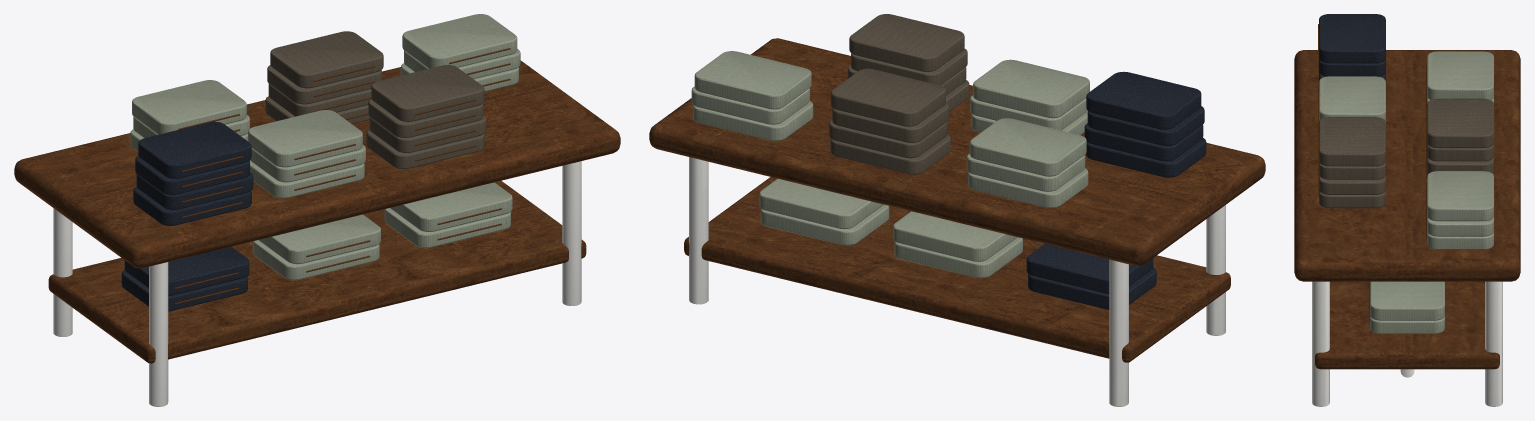
File: willow_folded_clothing_table.glb
The picture shows the model from 3 angles, left to right: view 1: azimuth 30°, elevation 25°; view 2: azimuth 150°, elevation 25°; view 3: azimuth 270°, elevation 25°; orthographic projection. The views are drawn at different scales.
Parts seen in each view (by area): view 1: willow_folded_clothing_table_willow_worn_oak_pbr, willow_folded_clothing_table_willow_dark_oak_pbr, willow_folded_clothing_table_willow_dark_denim_pbr, willow_folded_clothing_table_willow_rust_corduroy_pbr, willow_folded_clothing_table_willow_forest_corduroy_pbr, willow_folded_clothing_table_willow_tan_fleece_pbr, willow_folded_clothing_table_willow_cream_fleece_pbr, willow_folded_clothing_table_willow_olive_corduroy_pbr, willow_folded_clothing_table_willow_blackened_steel_pbr, willow_folded_clothing_table_willow_brown_leather_pbr; view 2: willow_folded_clothing_table_willow_worn_oak_pbr, willow_folded_clothing_table_willow_dark_oak_pbr, willow_folded_clothing_table_willow_dark_denim_pbr, willow_folded_clothing_table_willow_rust_corduroy_pbr, willow_folded_clothing_table_willow_forest_corduroy_pbr, willow_folded_clothing_table_willow_cream_fleece_pbr, willow_folded_clothing_table_willow_blackened_steel_pbr, willow_folded_clothing_table_willow_tan_fleece_pbr, willow_folded_clothing_table_willow_olive_corduroy_pbr; view 3: willow_folded_clothing_table_willow_worn_oak_pbr, willow_folded_clothing_table_willow_dark_oak_pbr, willow_folded_clothing_table_willow_rust_corduroy_pbr, willow_folded_clothing_table_willow_tan_fleece_pbr, willow_folded_clothing_table_willow_cream_fleece_pbr, willow_folded_clothing_table_willow_dark_denim_pbr, willow_folded_clothing_table_willow_blackened_steel_pbr, willow_folded_clothing_table_willow_forest_corduroy_pbr, willow_folded_clothing_table_willow_olive_corduroy_pbr, willow_folded_clothing_table_willow_brown_leather_pbr.
Part boxes in pixels (x1,y1,x2,y2): willow_folded_clothing_table_willow_worn_oak_pbr: [14, 60, 620, 268]; willow_folded_clothing_table_willow_dark_oak_pbr: [48, 180, 586, 363]; willow_folded_clothing_table_willow_dark_denim_pbr: [121, 121, 253, 311]; willow_folded_clothing_table_willow_rust_corduroy_pbr: [384, 14, 520, 248]; willow_folded_clothing_table_willow_forest_corduroy_pbr: [130, 80, 380, 280]; willow_folded_clothing_table_willow_tan_fleece_pbr: [366, 65, 486, 168]; willow_folded_clothing_table_willow_cream_fleece_pbr: [265, 31, 383, 123]; willow_folded_clothing_table_willow_olive_corduroy_pbr: [248, 110, 365, 198]; willow_folded_clothing_table_willow_blackened_steel_pbr: [53, 161, 581, 406]; willow_folded_clothing_table_willow_brown_leather_pbr: [174, 48, 510, 304]; willow_folded_clothing_table_willow_worn_oak_pbr: [649, 38, 1265, 265]; willow_folded_clothing_table_willow_dark_oak_pbr: [684, 177, 1230, 362]; willow_folded_clothing_table_willow_dark_denim_pbr: [1026, 71, 1206, 309]; willow_folded_clothing_table_willow_rust_corduroy_pbr: [691, 51, 889, 245]; willow_folded_clothing_table_willow_forest_corduroy_pbr: [893, 118, 1088, 278]; willow_folded_clothing_table_willow_cream_fleece_pbr: [829, 68, 950, 174]; willow_folded_clothing_table_willow_blackened_steel_pbr: [689, 157, 1225, 406]; willow_folded_clothing_table_willow_tan_fleece_pbr: [847, 14, 969, 111]; willow_folded_clothing_table_willow_olive_corduroy_pbr: [970, 59, 1089, 135]; willow_folded_clothing_table_willow_worn_oak_pbr: [1294, 50, 1520, 281]; willow_folded_clothing_table_willow_dark_oak_pbr: [1315, 281, 1499, 369]; willow_folded_clothing_table_willow_rust_corduroy_pbr: [1370, 171, 1493, 333]; willow_folded_clothing_table_willow_tan_fleece_pbr: [1319, 117, 1385, 208]; willow_folded_clothing_table_willow_cream_fleece_pbr: [1427, 98, 1493, 176]; willow_folded_clothing_table_willow_dark_denim_pbr: [1319, 14, 1385, 81]; willow_folded_clothing_table_willow_blackened_steel_pbr: [1312, 281, 1502, 406]; willow_folded_clothing_table_willow_forest_corduroy_pbr: [1427, 51, 1493, 103]; willow_folded_clothing_table_willow_olive_corduroy_pbr: [1319, 76, 1385, 121]; willow_folded_clothing_table_willow_brown_leather_pbr: [1318, 24, 1426, 322].
Bounding box in the file's own units: 2.6 × 1.19 × 1.15.
Materials: 10 (10 with a texture image).
